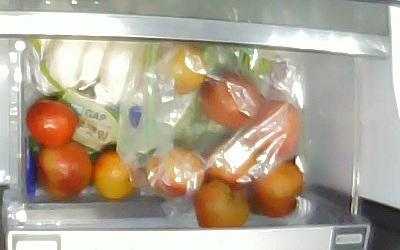prune: (35, 144, 92, 199), (194, 178, 249, 225), (26, 99, 76, 146)
prune_vinyl: (239, 100, 301, 161), (203, 72, 261, 129), (142, 48, 208, 97), (247, 159, 303, 215), (147, 147, 205, 199), (93, 148, 140, 198)
